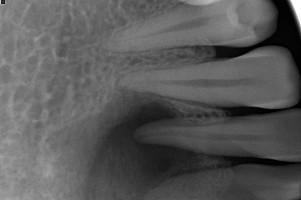Furcation Involvement: (48, 91, 232, 199)
